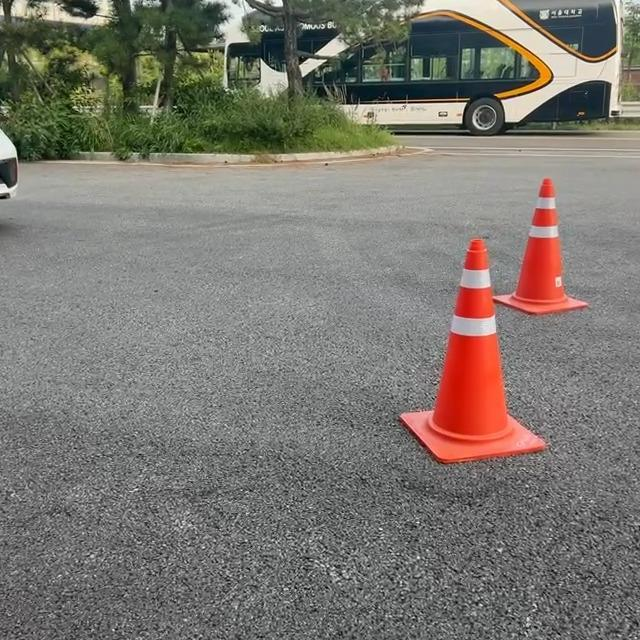fallen_object: (375, 226, 613, 562), (513, 162, 628, 364)
